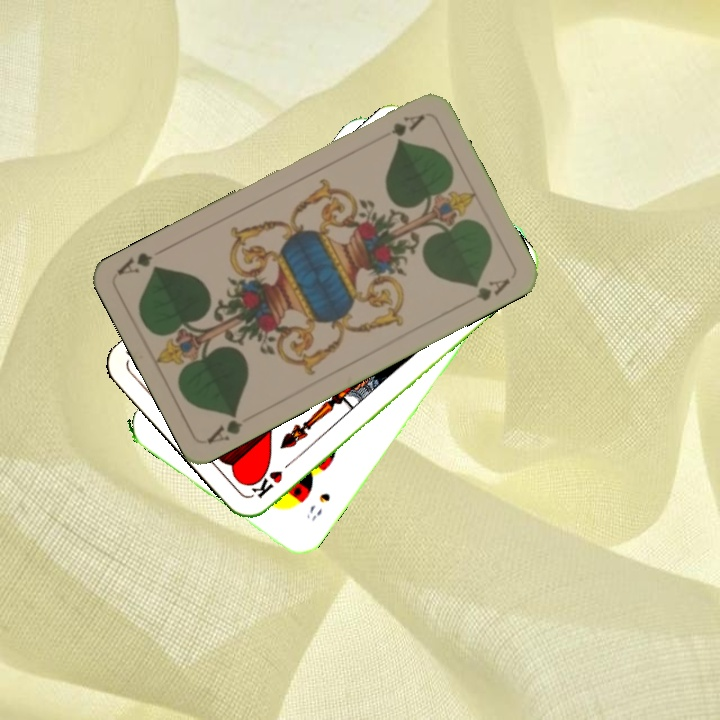GA: (204, 408, 245, 447), (387, 110, 428, 143)
HK: (246, 454, 298, 501)
S8: (302, 488, 333, 524)
